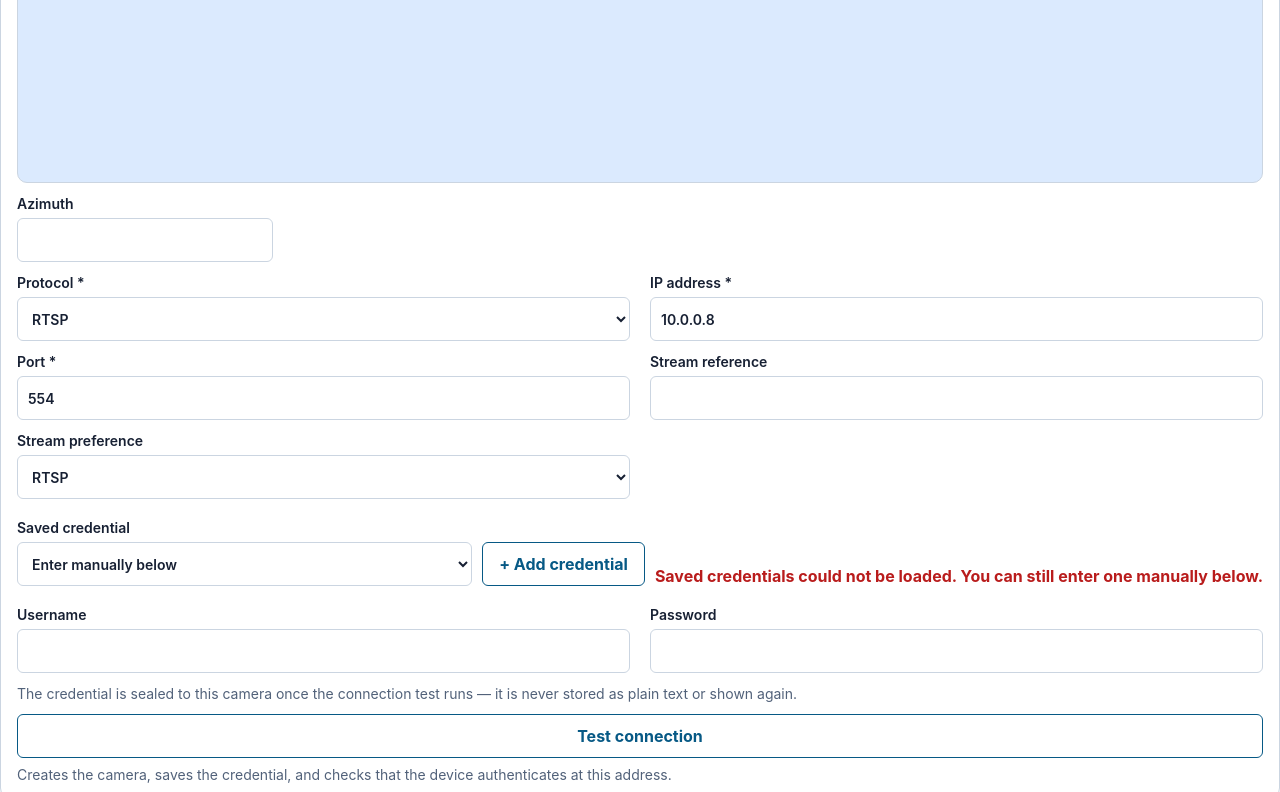
Test: CameraForm › does not advance when the credential is rejected, and lets the operator retry against the same camera
(page scrolled)
Click the button "Test connection" at (640, 736), box [17,714,1263,758]
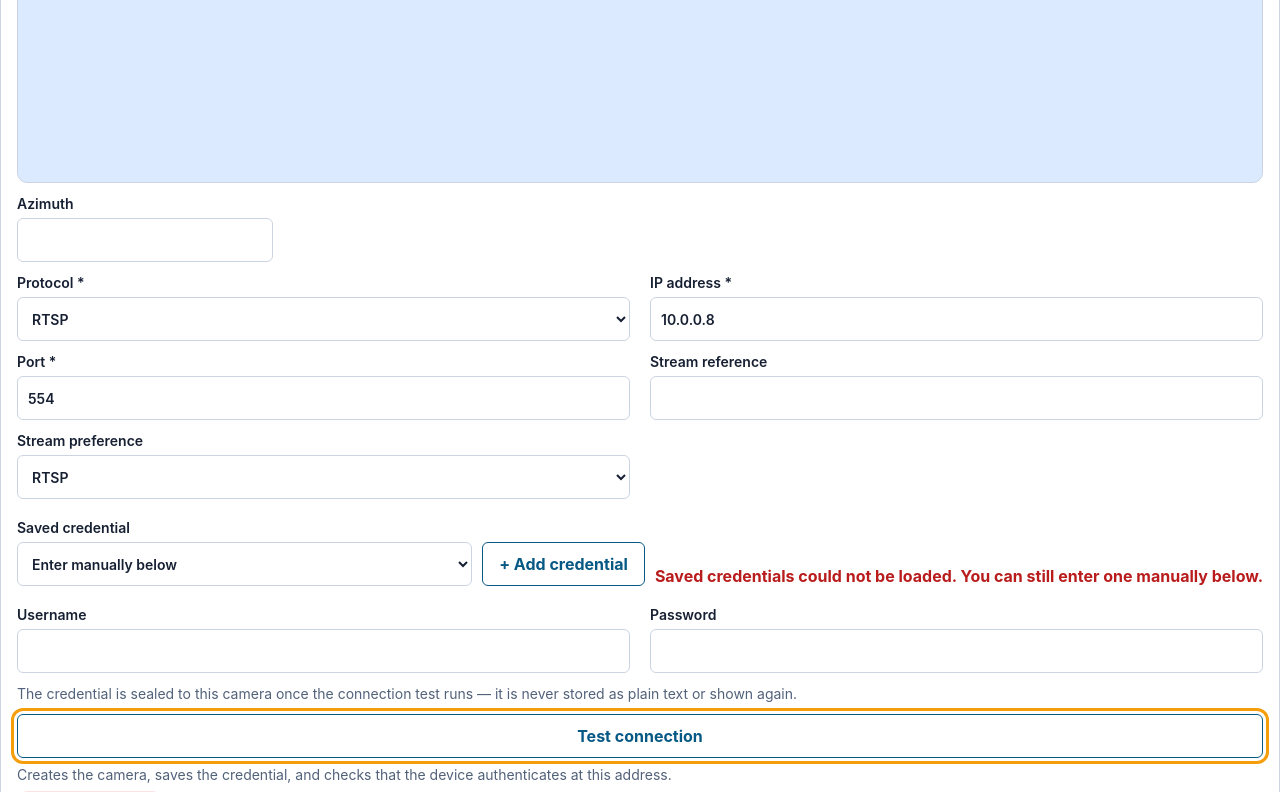
Expected: the field labelled "manufacturer" is not shown
Click the button "Test connection" at (640, 736), box [17,714,1263,758]
(page scrolled)
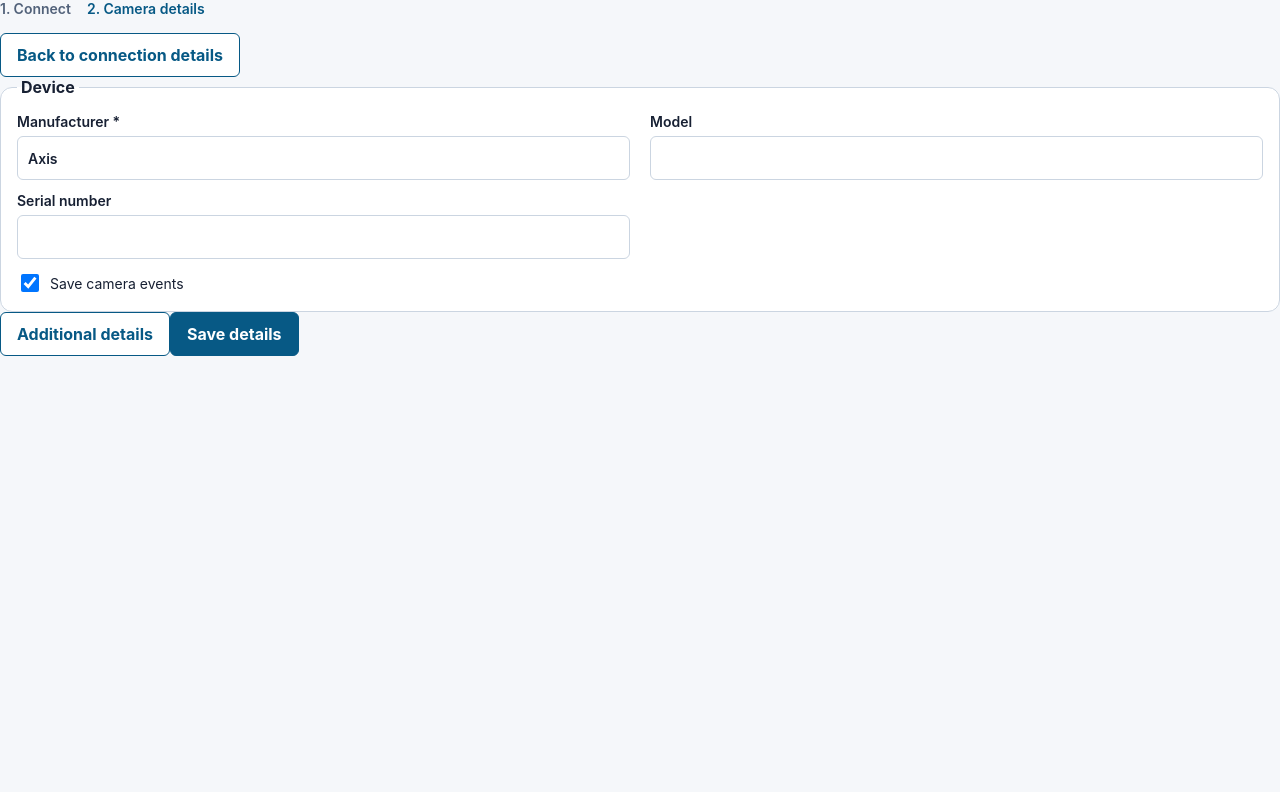
Now the field labelled "Manufacturer *" is shown, box [17,136,630,180]
